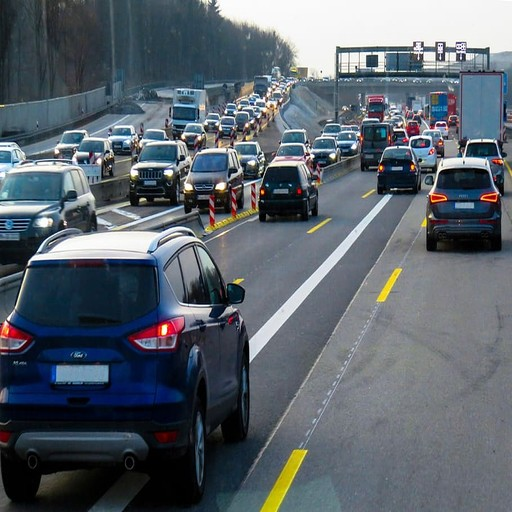Car: (1, 224, 255, 512), (1, 159, 98, 259), (420, 151, 512, 253), (179, 146, 248, 214), (124, 137, 195, 201), (257, 157, 325, 223), (373, 143, 423, 196)
Truck: (453, 65, 505, 154)
